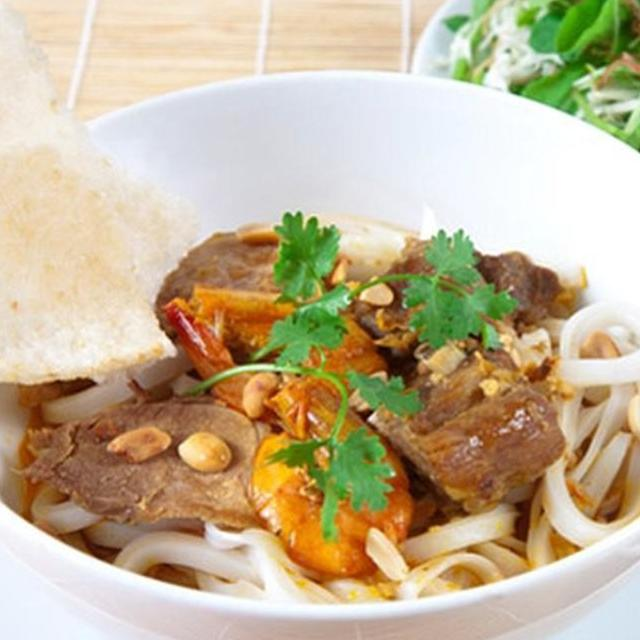banh da: (0, 0, 207, 296), (0, 133, 183, 391)
mi: (108, 494, 546, 617), (504, 297, 640, 568), (35, 342, 211, 436), (28, 478, 210, 564)
thit heo: (13, 387, 287, 541), (350, 331, 572, 519), (342, 230, 591, 360), (144, 214, 330, 350)
tom: (242, 366, 419, 584), (155, 281, 396, 434)
